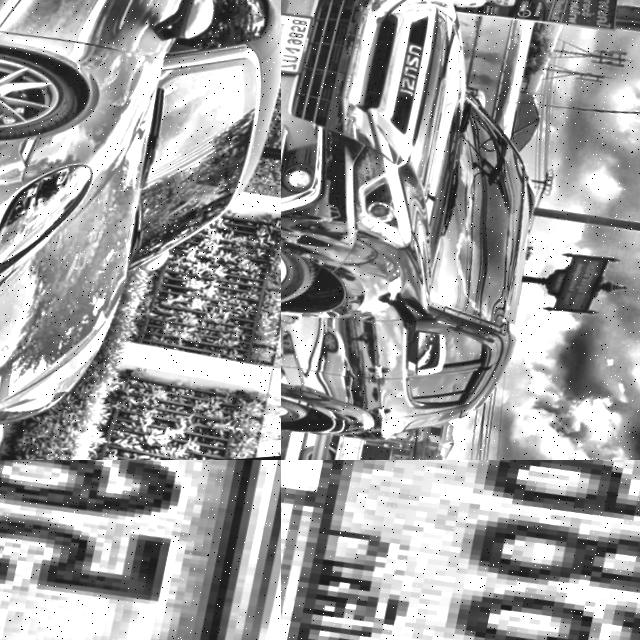license-plate: (281, 460, 640, 640), (0, 460, 281, 640), (281, 5, 317, 85)
